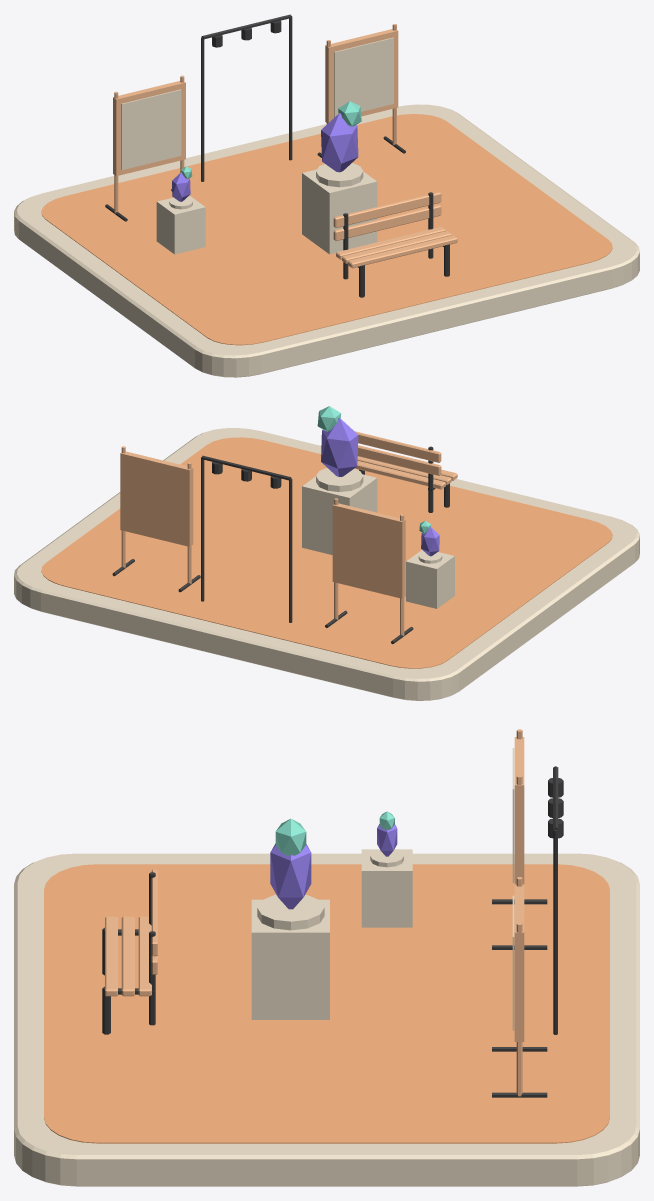
Rendered from room.fbx.
3 renders of one model, top to bottom at view 1: azimuth 30°, elevation 25°; view 2: azimuth 150°, elevation 25°; view 3: azimuth 270°, elevation 25°, orthographic. The views are drawn at different scales.
Visible parts, largest first — view 1: COM-02 Floor Surface, COM-01 Rounded Base Direct, Art surface, Display plinth, Art surface.001, Display plinth.001, Frame, Frame.001, Sculpture, Back slat.001, Back slat, Seat slat (+5 smaller); view 2: COM-02 Floor Surface, COM-01 Rounded Base Direct, Frame.001, Frame, Display plinth, Display plinth.001, Sculpture, Back slat.001, Back slat, Plinth, Seat slat.002, Pole (+4 smaller); view 3: COM-02 Floor Surface, COM-01 Rounded Base Direct, Display plinth, Display plinth.001, Sculpture, Plinth, Frame.001, Frame, Seat slat.001, Seat slat, Pole.001, Seat slat.002 (+1 smaller).
Boxes of the visible parts, x1,y1,x2,y2 form: COM-02 Floor Surface: [41, 114, 612, 345]; COM-01 Rounded Base Direct: [14, 104, 639, 377]; Art surface: [121, 89, 181, 169]; Display plinth: [302, 169, 377, 254]; Art surface.001: [334, 37, 393, 117]; Display plinth.001: [156, 195, 205, 254]; Frame: [113, 81, 185, 176]; Frame.001: [325, 29, 398, 123]; Sculpture: [321, 113, 358, 172]; Back slat.001: [333, 192, 441, 227]; Back slat: [333, 205, 441, 240]; Seat slat: [347, 235, 457, 268]; COM-02 Floor Surface: [41, 437, 612, 668]; COM-01 Rounded Base Direct: [14, 428, 639, 700]; Frame.001: [120, 451, 193, 546]; Frame: [332, 503, 405, 598]; Display plinth: [302, 474, 377, 554]; Display plinth.001: [406, 550, 454, 608]; Sculpture: [321, 418, 358, 476]; Back slat.001: [354, 431, 441, 462]; Back slat: [357, 445, 441, 475]; Plinth: [316, 468, 363, 491]; Seat slat.002: [355, 461, 445, 489]; Pole: [289, 478, 292, 622]; COM-02 Floor Surface: [44, 864, 609, 1143]; COM-01 Rounded Base Direct: [14, 853, 639, 1186]; Display plinth: [251, 899, 329, 1019]; Display plinth.001: [361, 849, 412, 927]; Sculpture: [270, 843, 311, 909]; Plinth: [257, 895, 324, 930]; Frame.001: [514, 884, 524, 1041]; Frame: [514, 737, 524, 884]; Seat slat.001: [121, 916, 134, 996]; Seat slat: [105, 916, 117, 996]; Pole.001: [553, 830, 557, 1034]; Seat slat.002: [138, 916, 151, 996].
Bounding box in the file's own units: 600 × 219 × 520.
